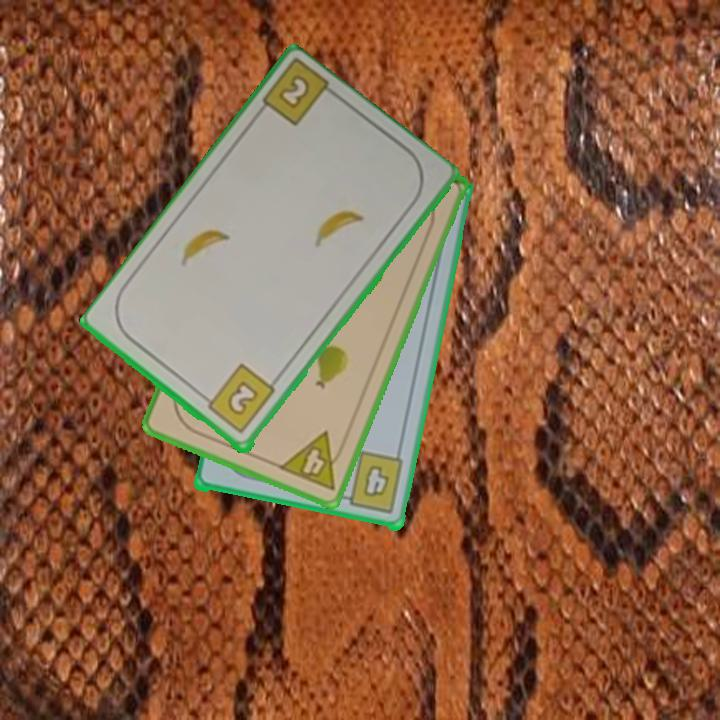2b: (198, 361, 278, 437), (274, 71, 313, 113)
4b: (335, 449, 407, 517)
4p: (275, 428, 350, 493)
